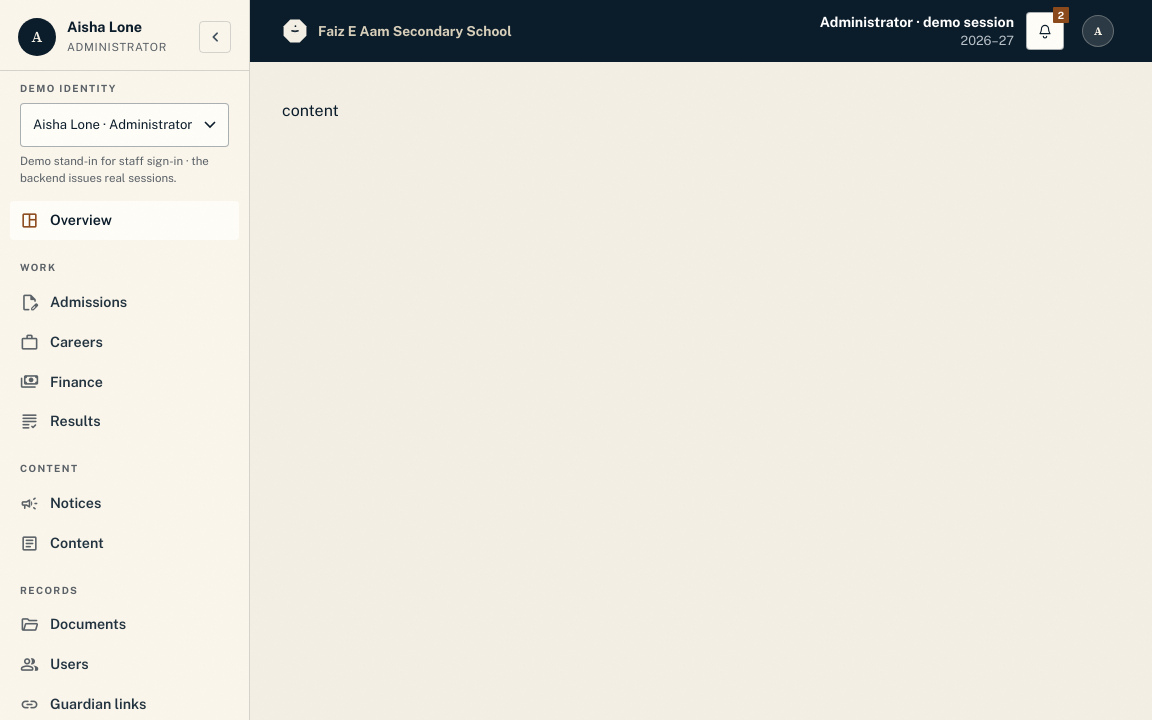
StaffShell profile-led chrome › shows only profile-menu actions the active profile can use
Expected: the text "Administrator · demo session" is shown, [820,13,1014,32]
Click the button named "Account menu for" at [1098, 31], box [1076,9,1120,53]
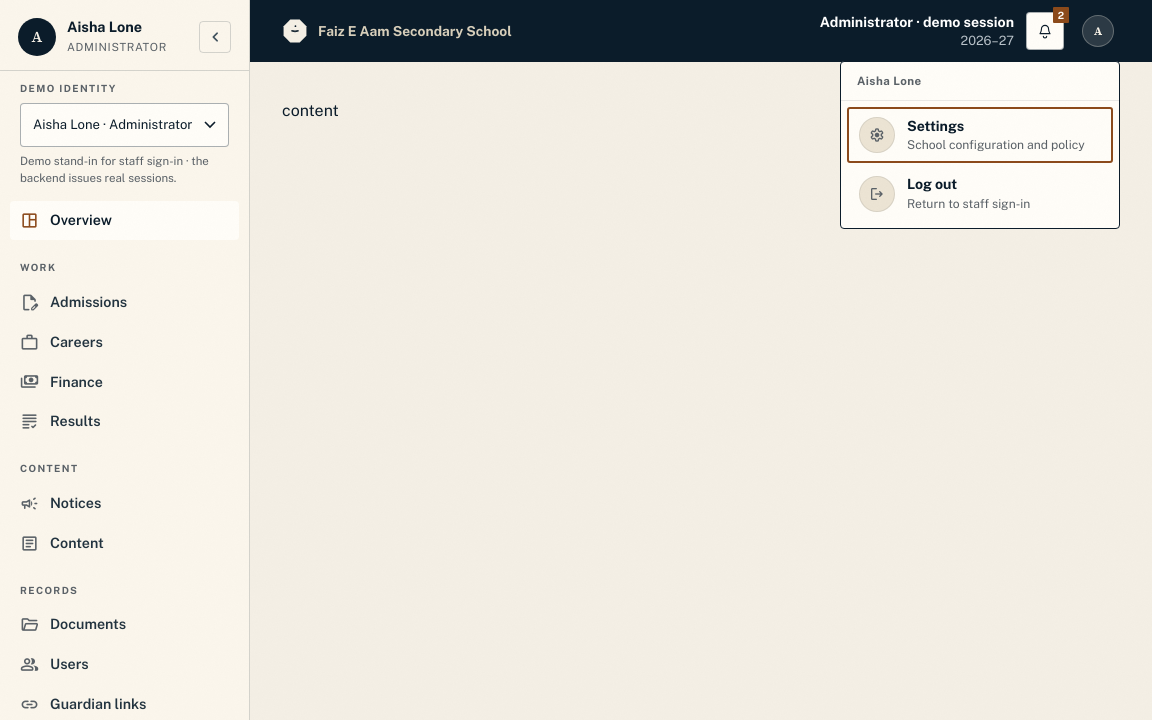
Now the menu item "Settings School configuration and policy" is shown, box [859,117,1085,153]
Now the menu item "Log out Return to staff sign-in" is shown, box [847,165,1113,222]
Click the button named "Account menu for" at [1098, 31], box [1076,9,1120,53]
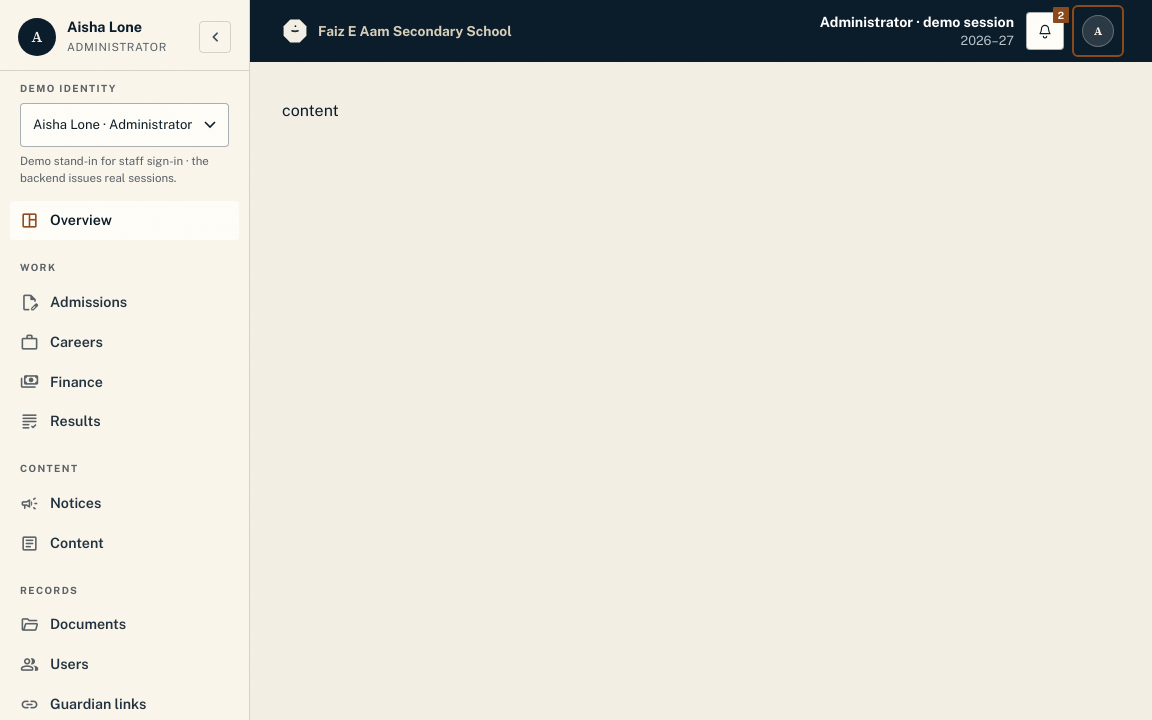
Select "Rania Mir · Principal" in the dropdown labelled "Demo identity" at [124, 125], box [20,103,229,147]
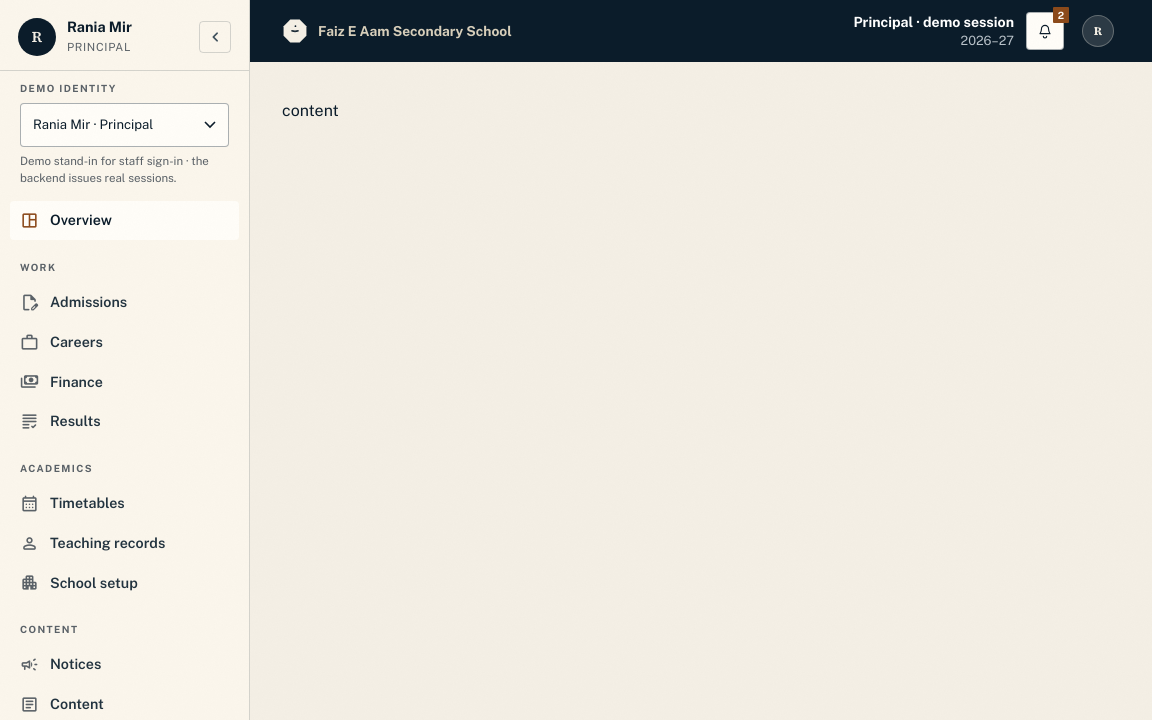
Now the text "Principal · demo session" is shown, box [853,13,1014,32]
Click the button named "Account menu for" at [1098, 31], box [1076,9,1120,53]
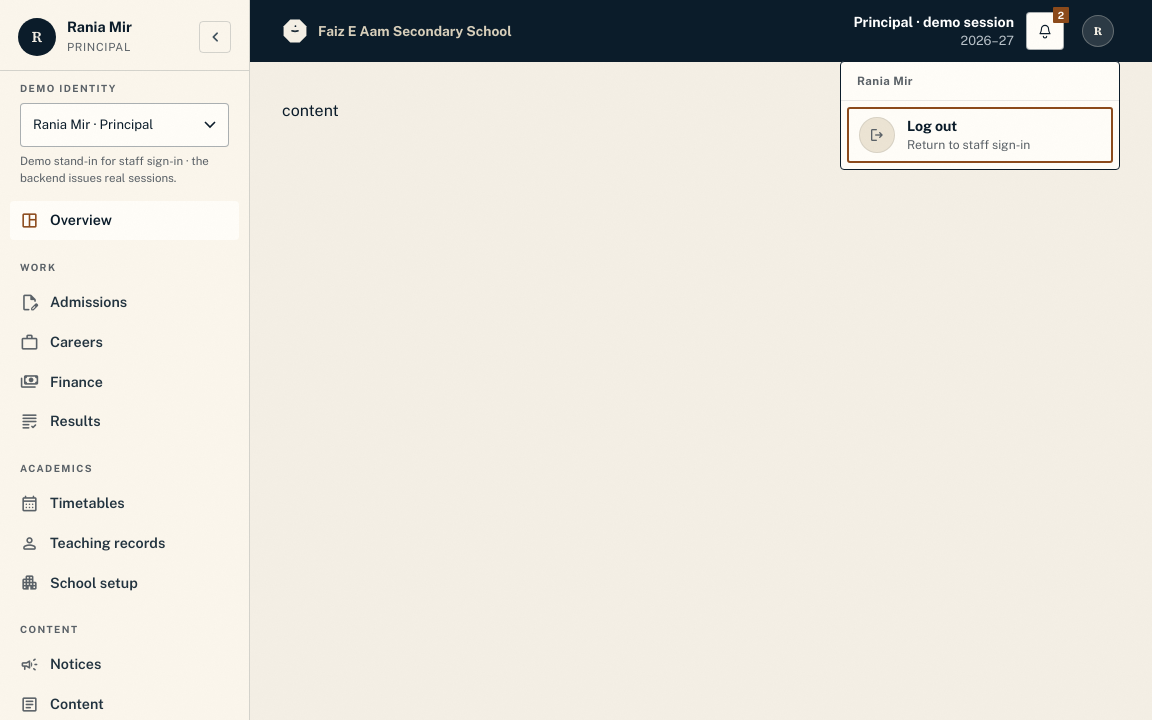
Expected: the menu item "Settings" is not shown
Now the menu item "Log out Return to staff sign-in" is shown, box [847,106,1113,163]
